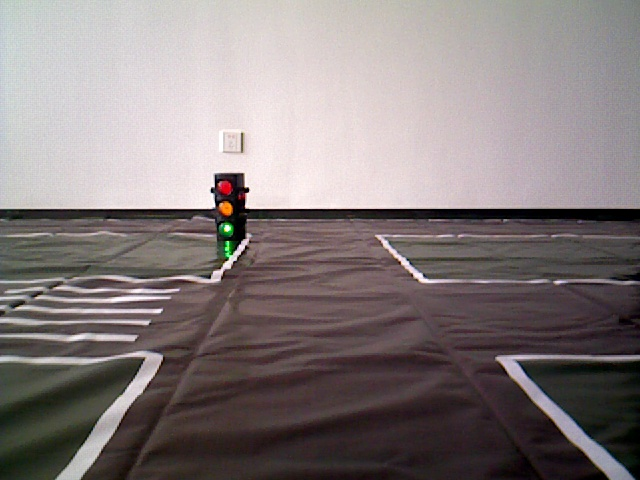green: (214, 176, 246, 234)
